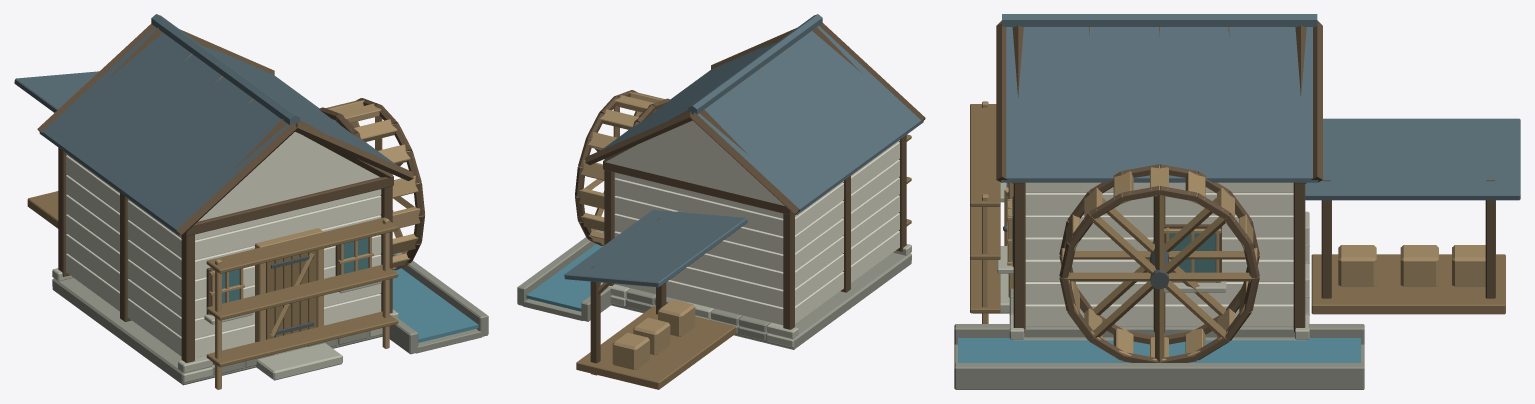
The model's file is watermill.glb.
3 renders of one model, left to right at view 1: azimuth 30°, elevation 25°; view 2: azimuth 150°, elevation 25°; view 3: azimuth 270°, elevation 25°, orthographic. The views are drawn at different scales.
Parts seen in each view (by area): view 1: TimberFrame_mesh, Scaffold_mesh, RoofCourse.002_mesh, RidgeAndFascia_mesh, RoofCourse.004_mesh, WallCourse.005_mesh, RoofCourse.005_mesh, Foundation_mesh, WaterWheel_mesh, RoofCourse.003_mesh, WallCourse_mesh, RoofCourse_mesh (+13 smaller); view 2: StorageBay_mesh, TimberFrame_mesh, Foundation_mesh, RidgeAndFascia_mesh, RoofCourse.002_mesh, RoofCourse.004_mesh, WallCourse.005_mesh, WaterWheel_mesh, RoofCourse.005_mesh, WallCourse_mesh, WallCourse.001_mesh, WallCourse.004_mesh (+8 smaller); view 3: StorageBay_mesh, WaterWheel_mesh, MillRace_mesh, RoofCourse.004_mesh, RoofCourse.002_mesh, RoofCourse.005_mesh, RoofCourse_mesh, WaterSurface_mesh, RidgeAndFascia_mesh, Scaffold_mesh, RoofCourse.001_mesh, RoofCourse.003_mesh (+10 smaller).
Part boxes in pixels (bbox=[...]): TimberFrame_mesh: bbox=[58, 27, 393, 362]; Scaffold_mesh: bbox=[206, 217, 398, 389]; RoofCourse.002_mesh: bbox=[97, 45, 340, 178]; RidgeAndFascia_mesh: bbox=[37, 14, 413, 236]; RoofCourse.004_mesh: bbox=[59, 57, 377, 214]; WallCourse.005_mesh: bbox=[66, 155, 381, 259]; RoofCourse.005_mesh: bbox=[39, 68, 396, 235]; Foundation_mesh: bbox=[52, 268, 398, 385]; WaterWheel_mesh: bbox=[319, 98, 424, 270]; RoofCourse.003_mesh: bbox=[83, 51, 355, 196]; WallCourse_mesh: bbox=[66, 253, 381, 357]; RoofCourse_mesh: bbox=[136, 27, 295, 143]; StorageBay_mesh: bbox=[564, 210, 747, 389]; TimberFrame_mesh: bbox=[603, 26, 906, 329]; Foundation_mesh: bbox=[600, 244, 911, 349]; RidgeAndFascia_mesh: bbox=[585, 14, 925, 215]; RoofCourse.002_mesh: bbox=[651, 42, 871, 162]; RoofCourse.004_mesh: bbox=[618, 53, 905, 195]; WallCourse.005_mesh: bbox=[614, 142, 899, 236]; WaterWheel_mesh: bbox=[575, 90, 670, 245]; RoofCourse.005_mesh: bbox=[601, 62, 923, 214]; WallCourse_mesh: bbox=[615, 231, 899, 325]; WallCourse.001_mesh: bbox=[670, 213, 899, 307]; WallCourse.004_mesh: bbox=[614, 159, 899, 254]; StorageBay_mesh: bbox=[1305, 118, 1520, 314]; WaterWheel_mesh: bbox=[1059, 164, 1259, 362]; MillRace_mesh: bbox=[954, 324, 1364, 389]; RoofCourse.004_mesh: bbox=[1006, 124, 1312, 156]; RoofCourse.002_mesh: bbox=[1006, 72, 1312, 104]; RoofCourse.005_mesh: bbox=[1001, 149, 1318, 182]; RoofCourse_mesh: bbox=[1006, 27, 1312, 53]; WaterSurface_mesh: bbox=[958, 338, 1360, 362]; RidgeAndFascia_mesh: bbox=[996, 14, 1322, 181]; Scaffold_mesh: bbox=[970, 101, 1000, 323]; RoofCourse.001_mesh: bbox=[1006, 47, 1312, 72]; RoofCourse.003_mesh: bbox=[1006, 98, 1312, 123].
Bounding box in the file's own units: 5.22 × 4.23 × 7.73.
